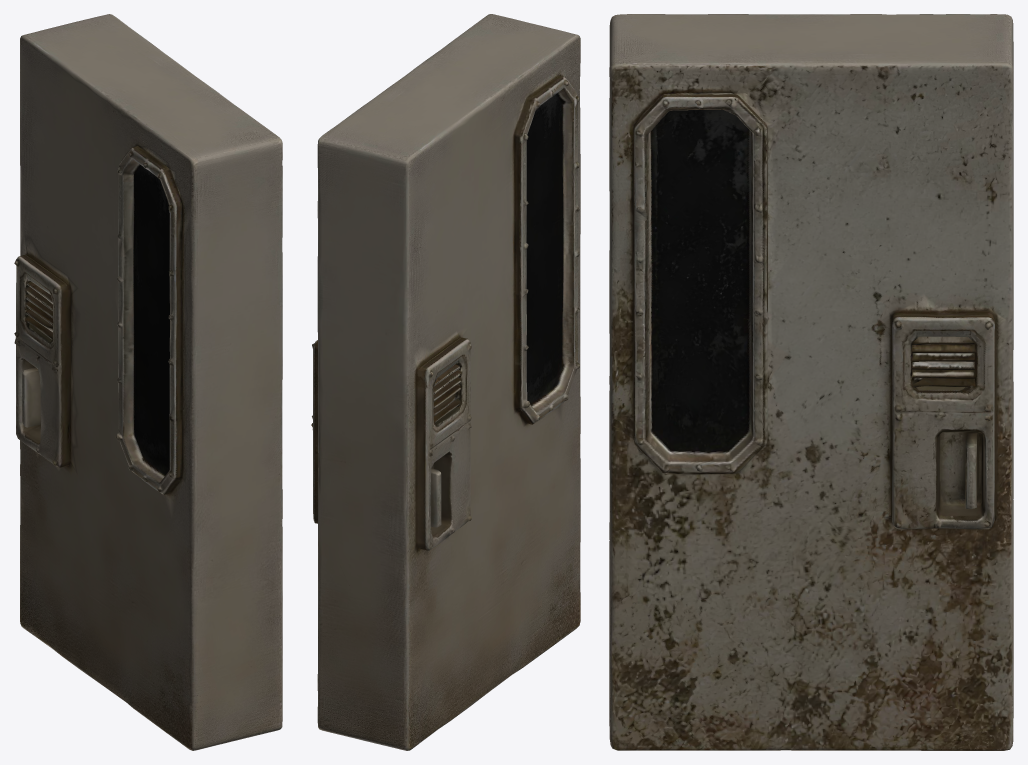
Rendered from kapi_kanat_tripo.glb.
3 renders of one model, left to right at view 1: azimuth 30°, elevation 25°; view 2: azimuth 150°, elevation 25°; view 3: azimuth 270°, elevation 25°, orthographic. The views are drawn at different scales.
Parts seen in each view (by area): view 1: tripo_node_3000e79a-df73-4641-b2f2-87416fdecec9; view 2: tripo_node_3000e79a-df73-4641-b2f2-87416fdecec9; view 3: tripo_node_3000e79a-df73-4641-b2f2-87416fdecec9.
Part boxes in pixels (x1,y1,x2,y2): tripo_node_3000e79a-df73-4641-b2f2-87416fdecec9: [14, 14, 282, 750]; tripo_node_3000e79a-df73-4641-b2f2-87416fdecec9: [311, 14, 580, 750]; tripo_node_3000e79a-df73-4641-b2f2-87416fdecec9: [609, 14, 1013, 750].
Size of the model in its own units: 0.2165 by 1 by 0.5323.
1 material, 1 textured.
